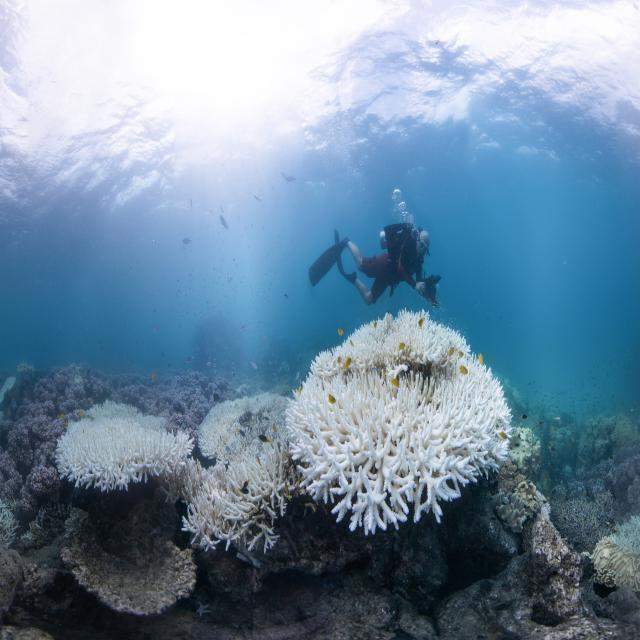Dead Coral: (62, 514, 199, 615), (275, 512, 358, 577), (551, 483, 609, 550)
